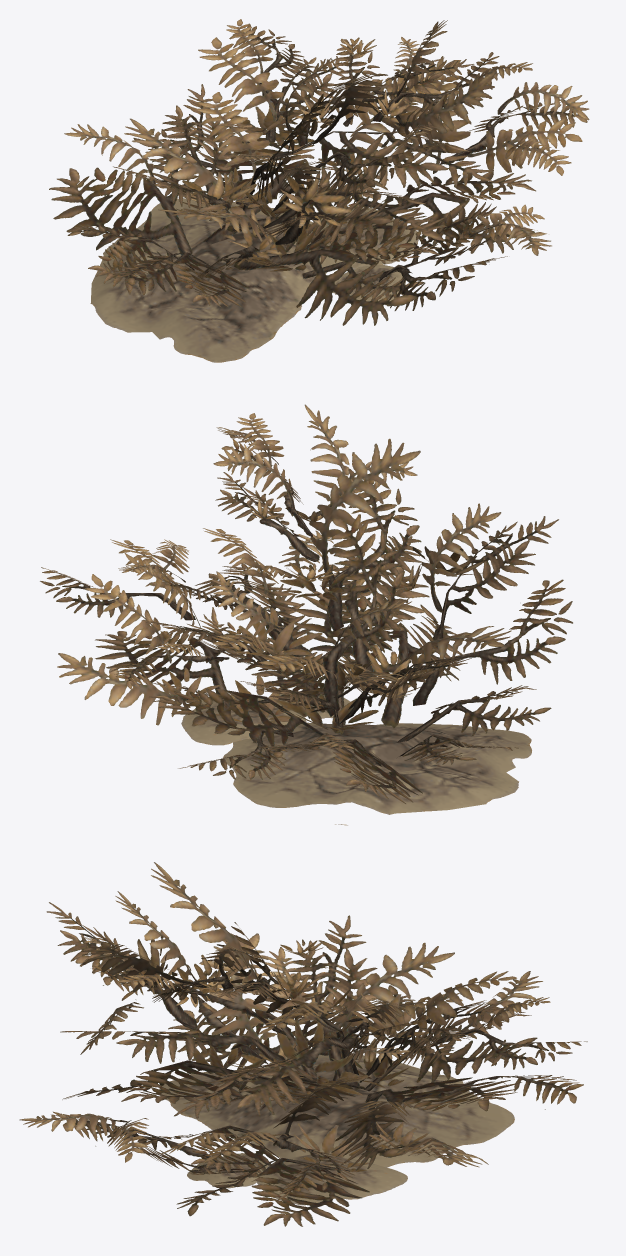
File: xsm_cao_2.FBX
3 views of the same model, one above another, from view 1: azimuth 30°, elevation 25°; view 2: azimuth 150°, elevation 25°; view 3: azimuth 270°, elevation 25° (orthographic). The views are drawn at different scales.
Parts seen in each view (by area): view 1: xsm_cao_2; view 2: xsm_cao_2; view 3: xsm_cao_2.
Boxes of the visible parts, x1,y1,x2,y2 form: xsm_cao_2: (49,19,589,362); xsm_cao_2: (40,404,572,825); xsm_cao_2: (19,862,587,1226).
Size of the model in its own units: 310 by 154 by 285.
